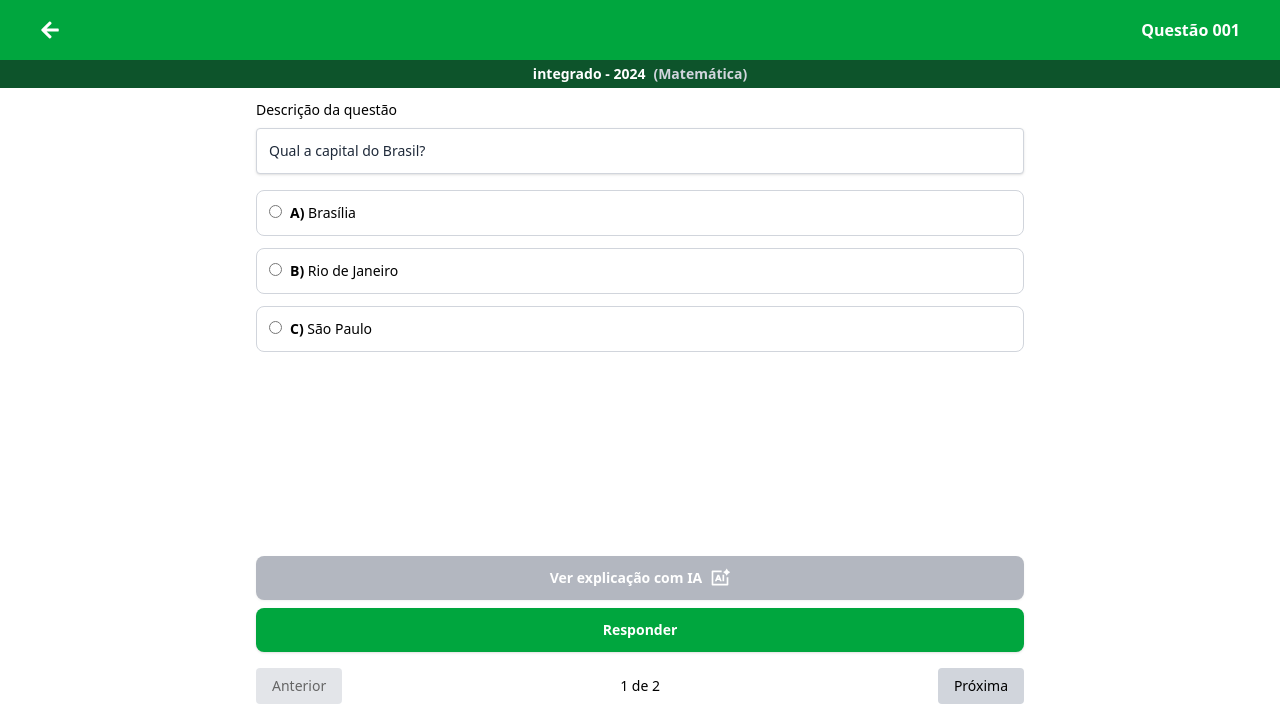
Test: Resolver Content › Navegacao e estados avancados › deve limpar resposta ao navegar
Expected: the text "Qual a capital do Brasil?" is shown, [269,141,425,160]
Click the text "a) Brasília": (332, 212) [256,190,1024,236]
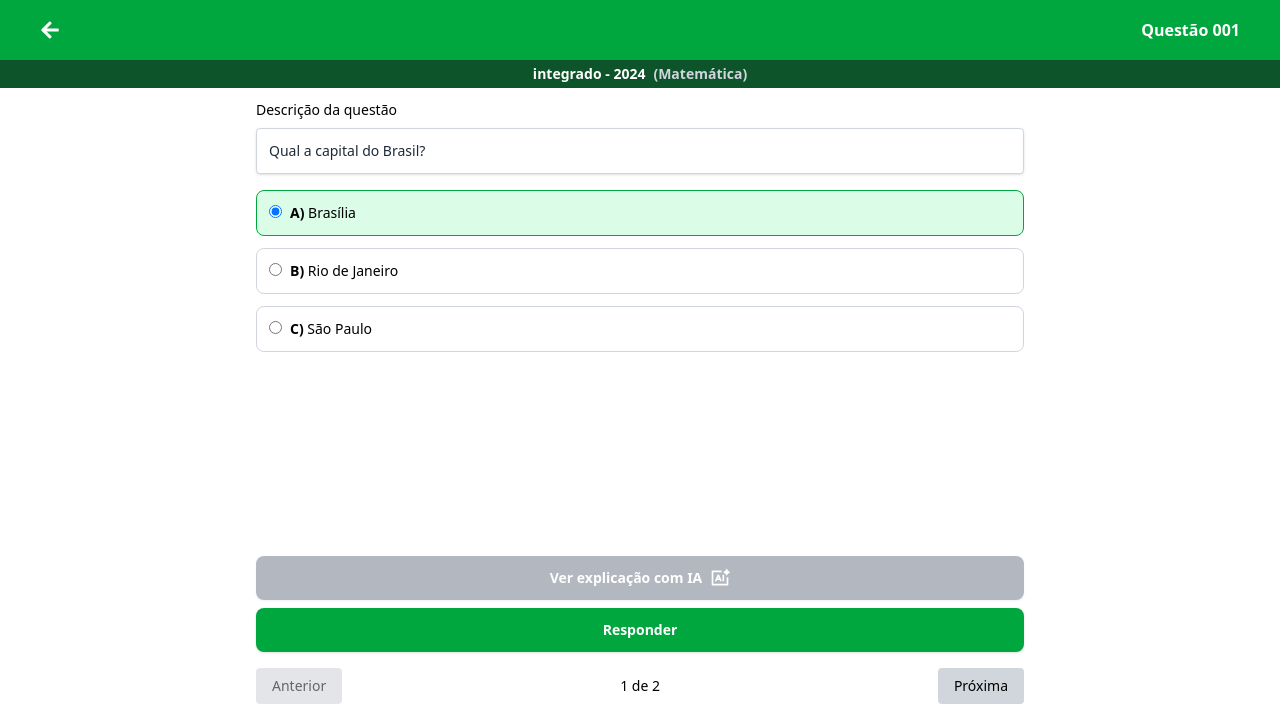
Now the text "a) Brasília" has class "bg-green-100", box [256,190,1024,236]
Click the button "Próxima": (981, 686) [938,668,1024,704]
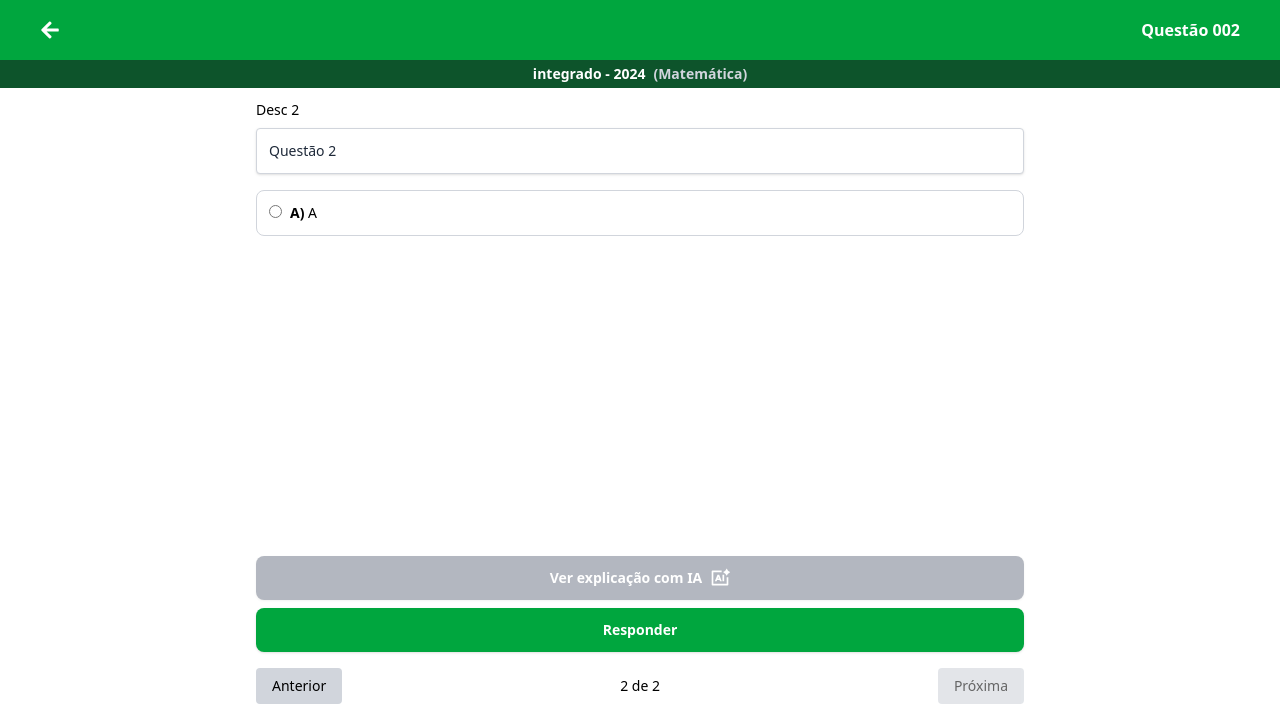
Now the text "2 de 2" is shown, box [620,676,660,696]
Click the button "Anterior": (299, 686) [256,668,342,704]
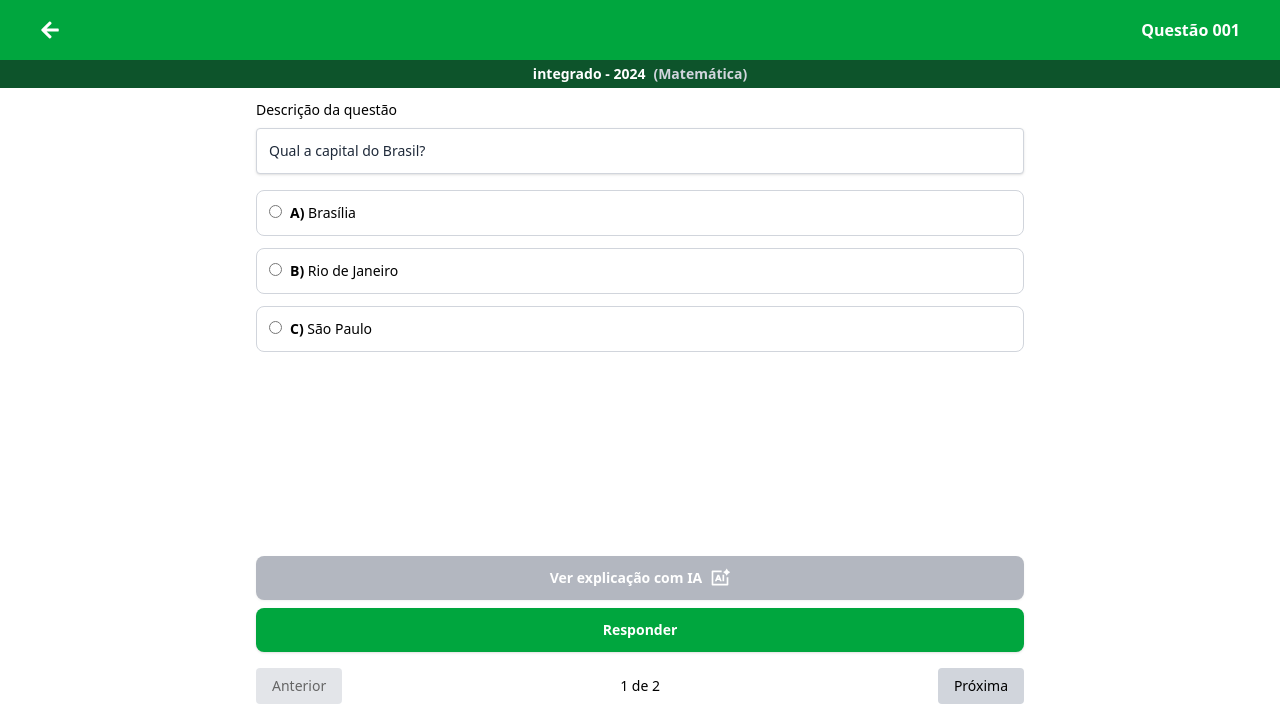
Now the text "1 de 2" is shown, box [620,676,660,696]
